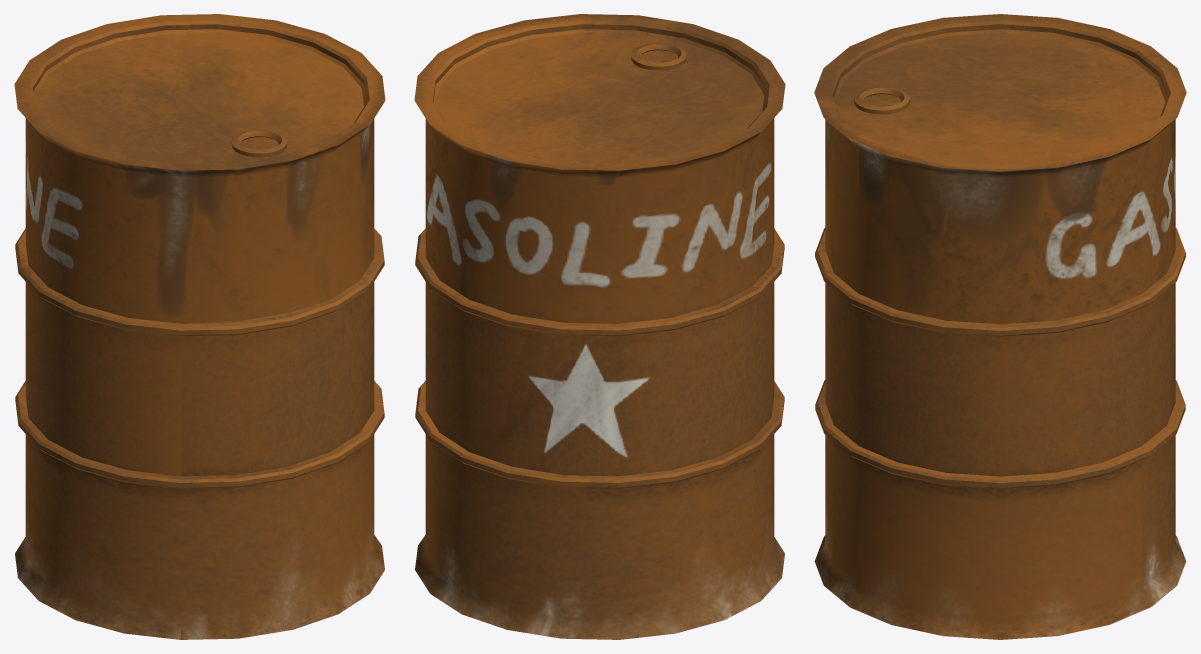
File: Gasoline.fbx
3 renders of one model, left to right at view 1: azimuth 30°, elevation 25°; view 2: azimuth 150°, elevation 25°; view 3: azimuth 270°, elevation 25°, orthographic.
Parts seen in each view (by area): view 1: pCylinder2, pTorus1; view 2: pCylinder2, pTorus1; view 3: pCylinder2, pTorus1.
Part boxes in pixels (x1=…): pCylinder2: x1=14, y1=14, x2=385, y2=639; pTorus1: x1=231, y1=130, x2=287, y2=157; pCylinder2: x1=414, y1=14, x2=785, y2=639; pTorus1: x1=631, y1=43, x2=686, y2=70; pCylinder2: x1=814, y1=14, x2=1186, y2=639; pTorus1: x1=854, y1=87, x2=909, y2=114.
Bounding box in the file's own units: 95.77 × 133 × 95.77.
